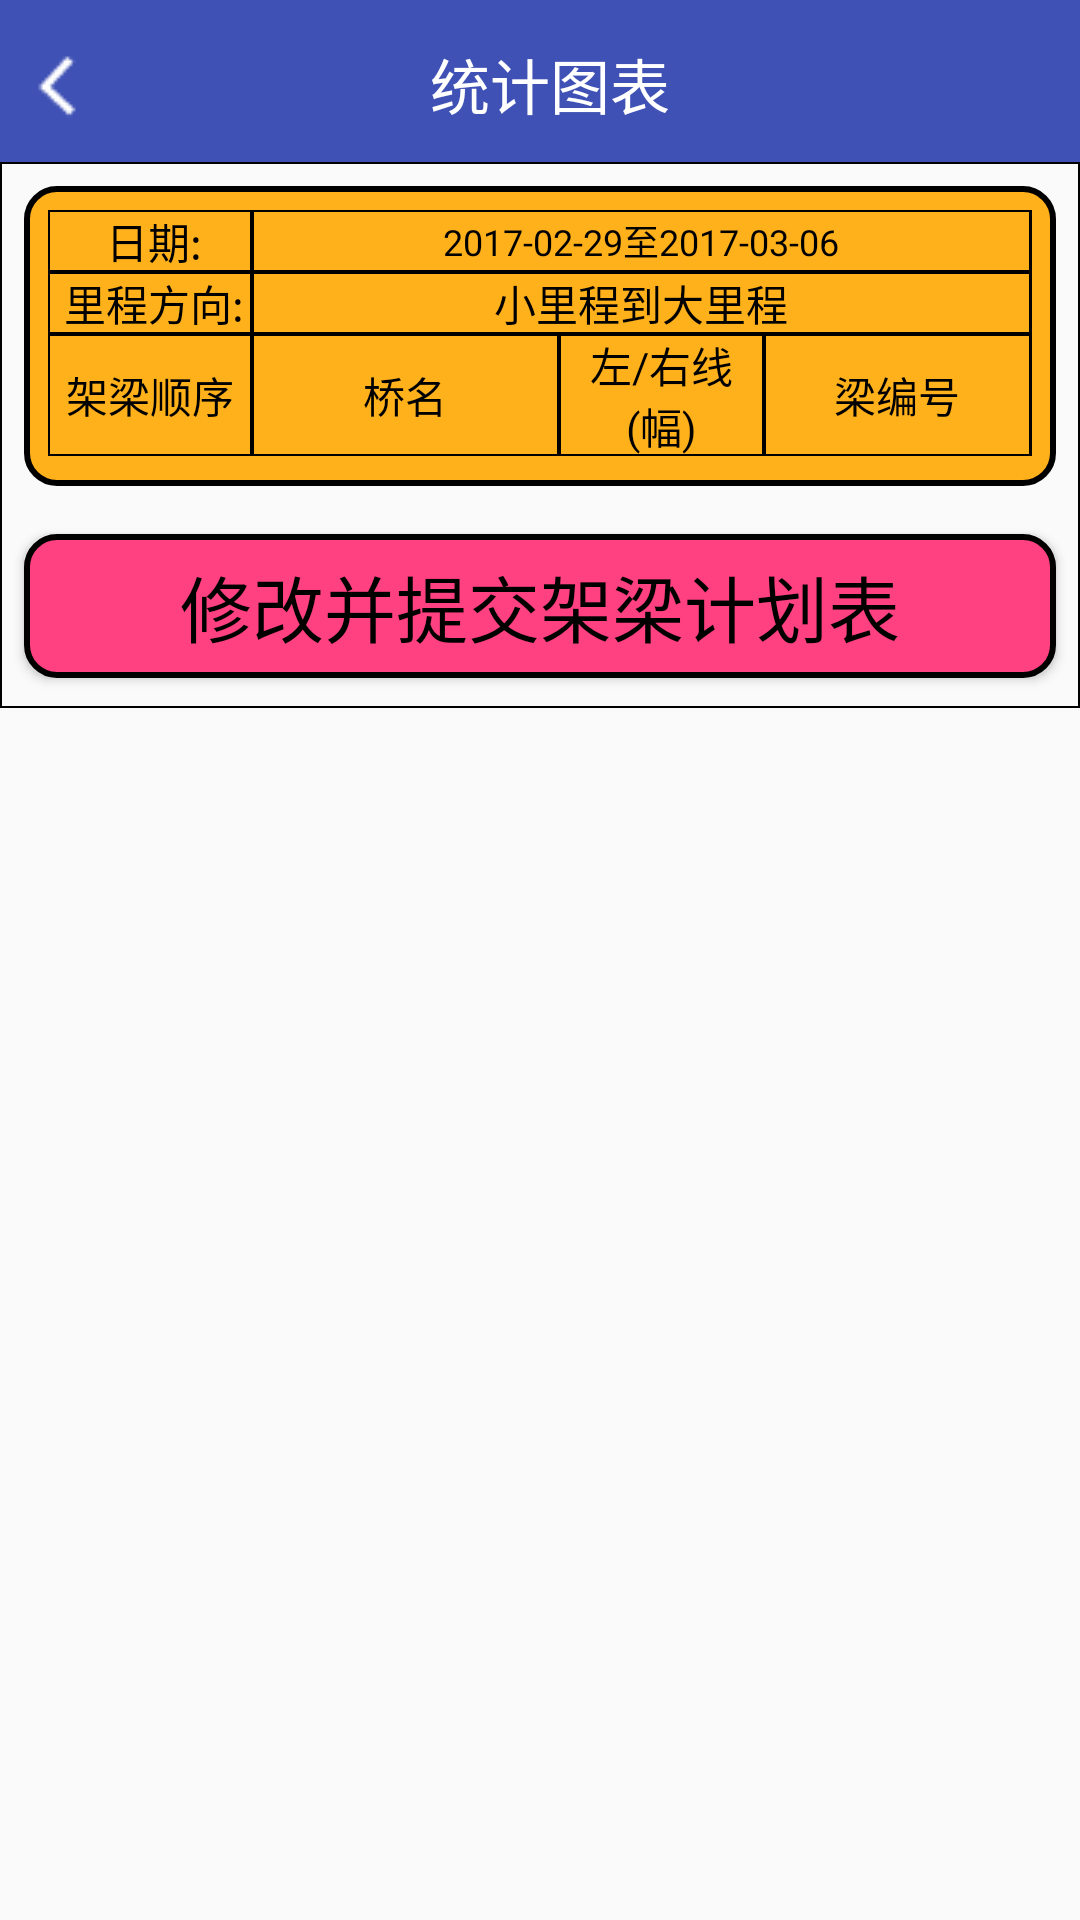

Where to tap for icons on this 1080px×1920px app screen, as [x,y]:
back: [57,85]
